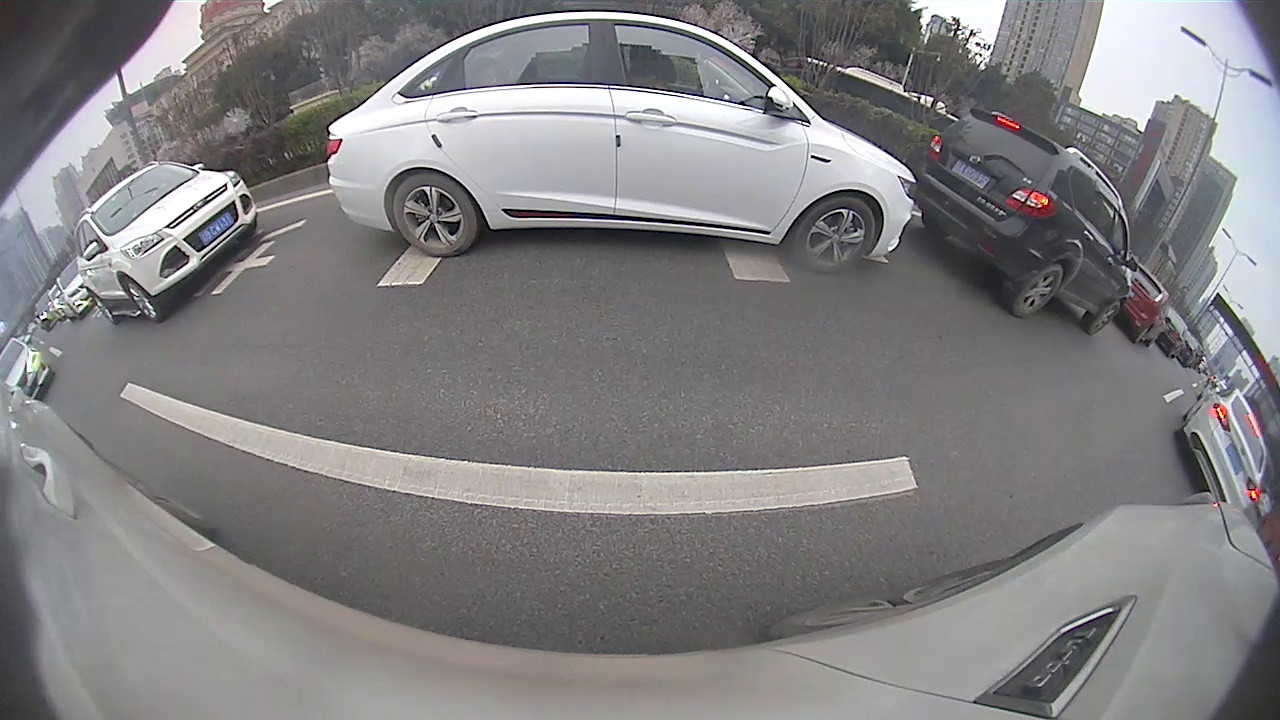car: (324, 10, 920, 276), (909, 106, 1139, 336), (75, 158, 260, 327), (1173, 385, 1272, 513), (1118, 264, 1169, 348), (1, 338, 56, 403), (56, 256, 97, 323)
front: (794, 196, 878, 275), (121, 273, 166, 322), (1084, 295, 1122, 335)
rear: (392, 171, 478, 260), (1008, 262, 1064, 319), (90, 291, 119, 325)
